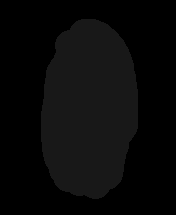fp: (39, 11, 138, 202)
